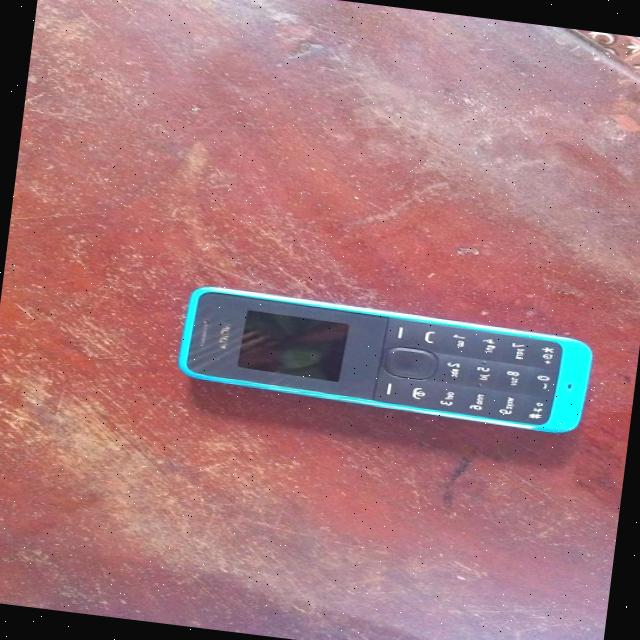Phone: (179, 283, 595, 437)
